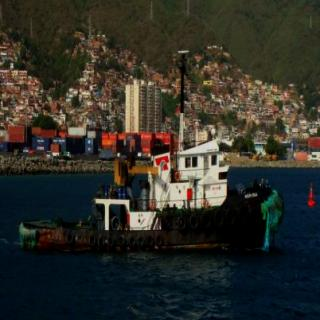Tug Boat: (5, 141, 286, 251)
